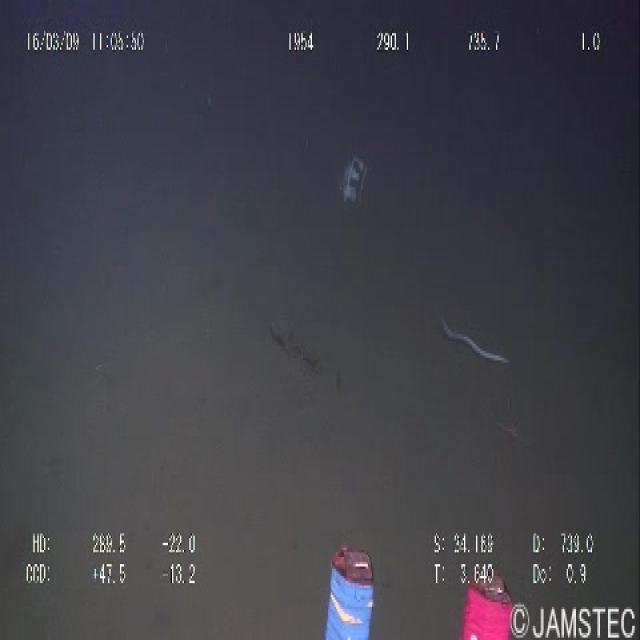plastic: (330, 135, 378, 216)
